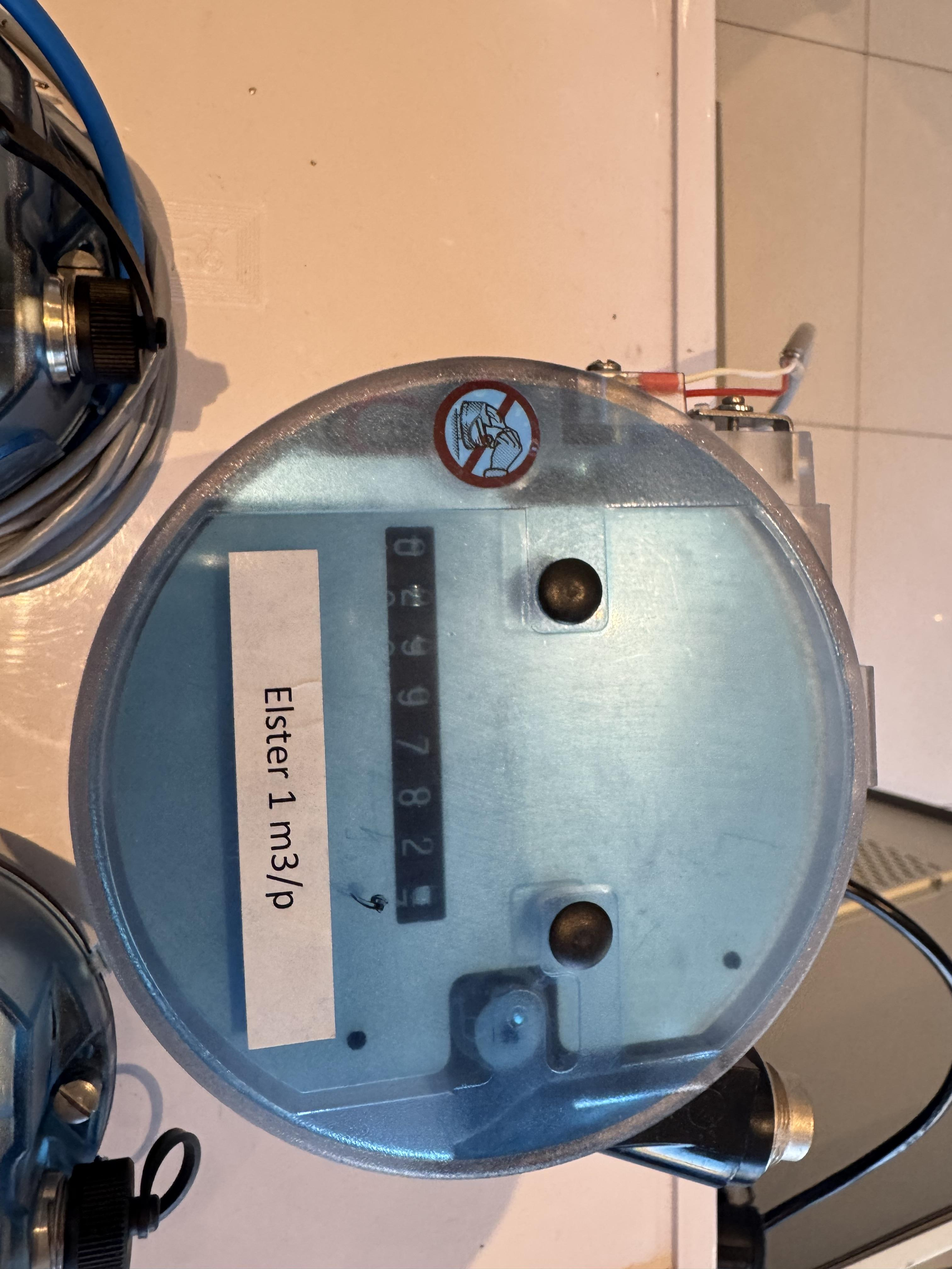analog_dial: (355, 522, 450, 931)
